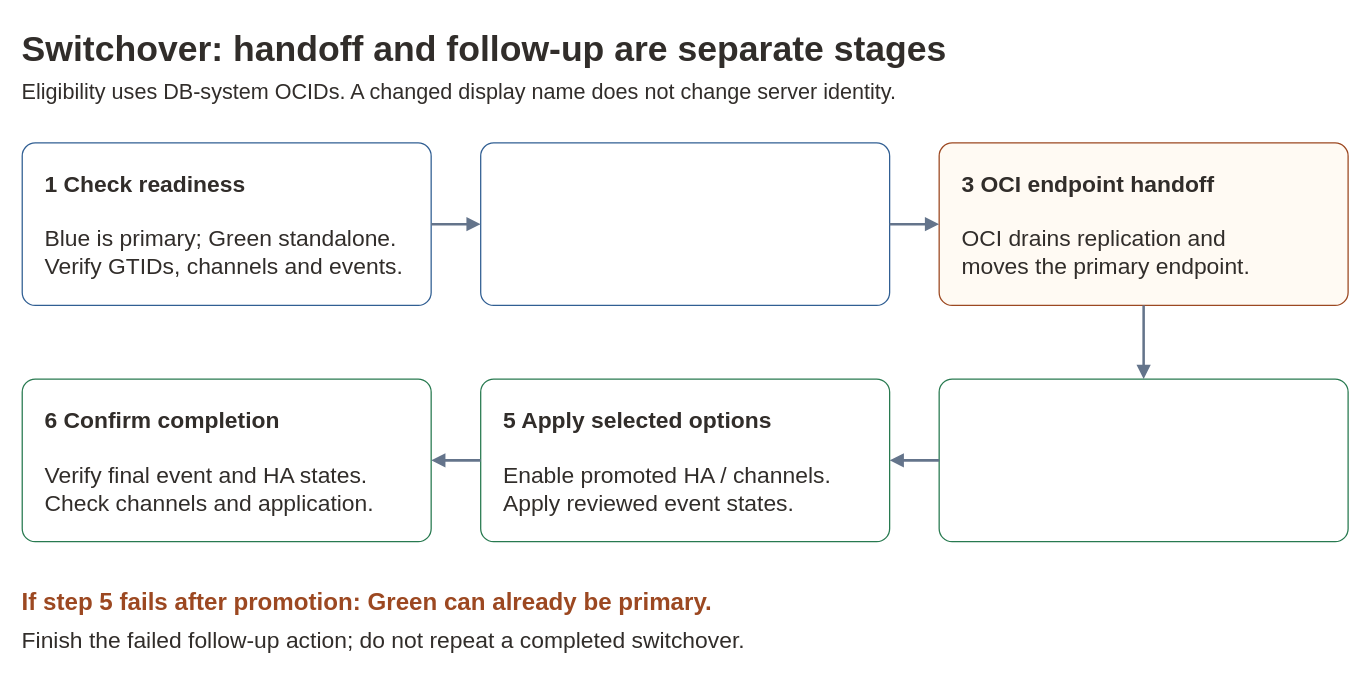
Some shapes in this 1370 by 677 pixel diagram are drawn without their labels. Here are the shapes that lost their labels. From the top down, the centre of each, then its label:
point (684, 223): 2 Prepare the pair Disable Blue HA if needed. Set Green RO; repeat checks.
point (1143, 460): 4 Verify promotion Check Green OCID and SQL ID, original endpoint, GTIDs and RW.
